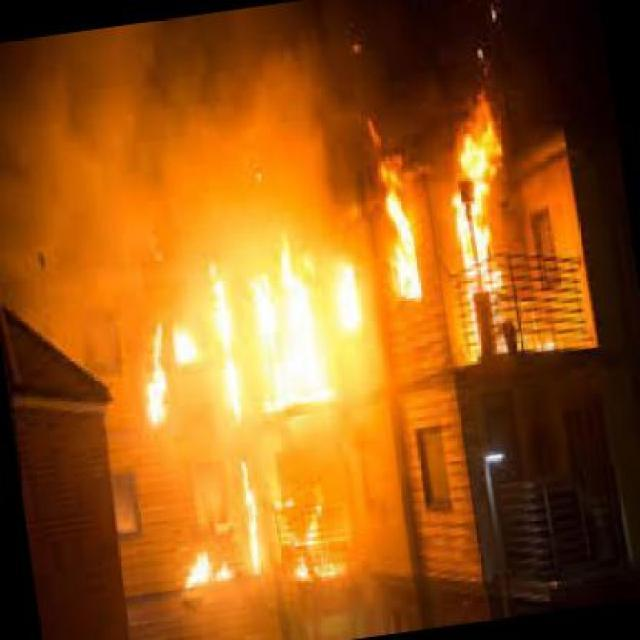Fire: (143, 252, 387, 602), (451, 128, 512, 298), (374, 136, 429, 316)
Smoke: (4, 36, 366, 250), (14, 249, 139, 402)
